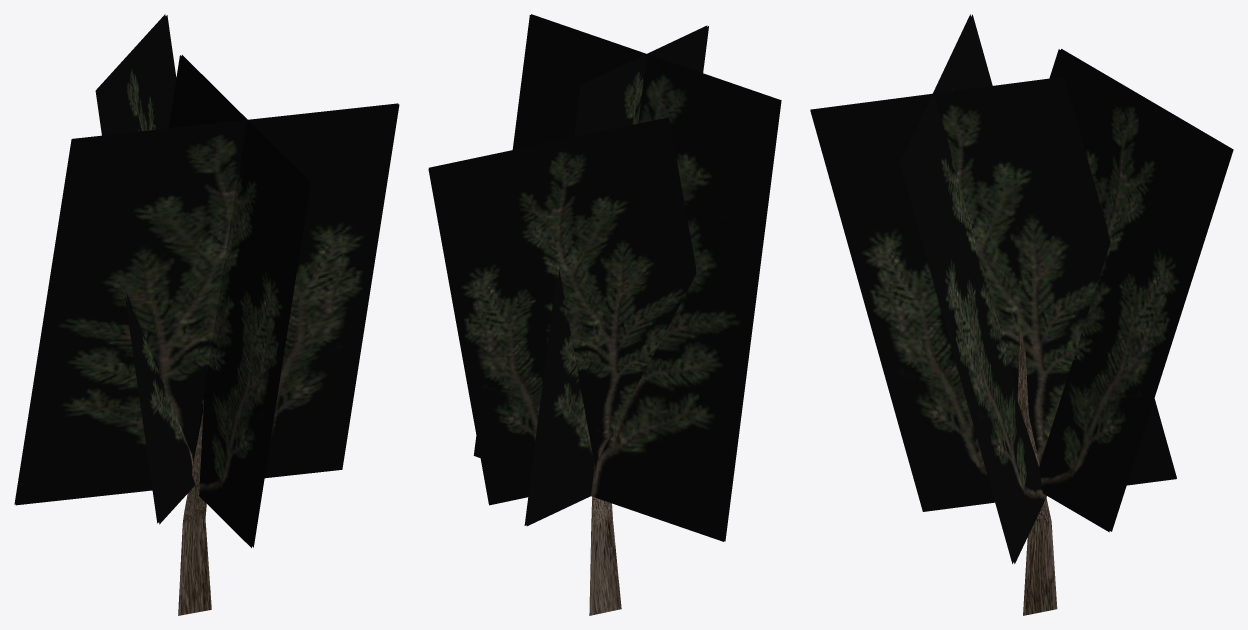
Rendered from mtns_shrb_evergreen_a4_l1.fbx.
The picture shows the model from 3 angles, left to right: view 1: azimuth 30°, elevation 25°; view 2: azimuth 150°, elevation 25°; view 3: azimuth 270°, elevation 25°; orthographic projection.
Visible parts, largest first — view 1: mesh_node; view 2: mesh_node; view 3: mesh_node.
Part boxes in pixels (bbox=[...]): mesh_node: bbox=[14, 14, 399, 615]; mesh_node: bbox=[428, 14, 781, 615]; mesh_node: bbox=[810, 14, 1233, 615].
Size of the model in its own units: 1.02 by 1.82 by 1.31.
